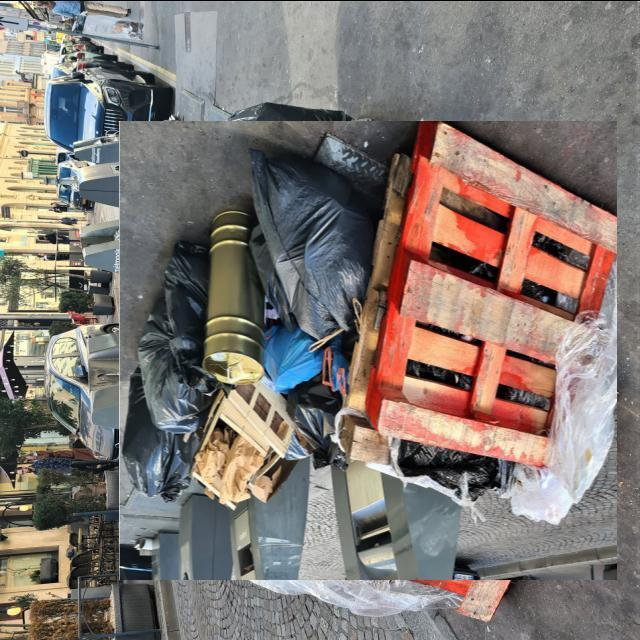Trashbag: (240, 151, 370, 335), (139, 304, 196, 432), (120, 409, 194, 506), (288, 378, 341, 462), (168, 238, 213, 317)
